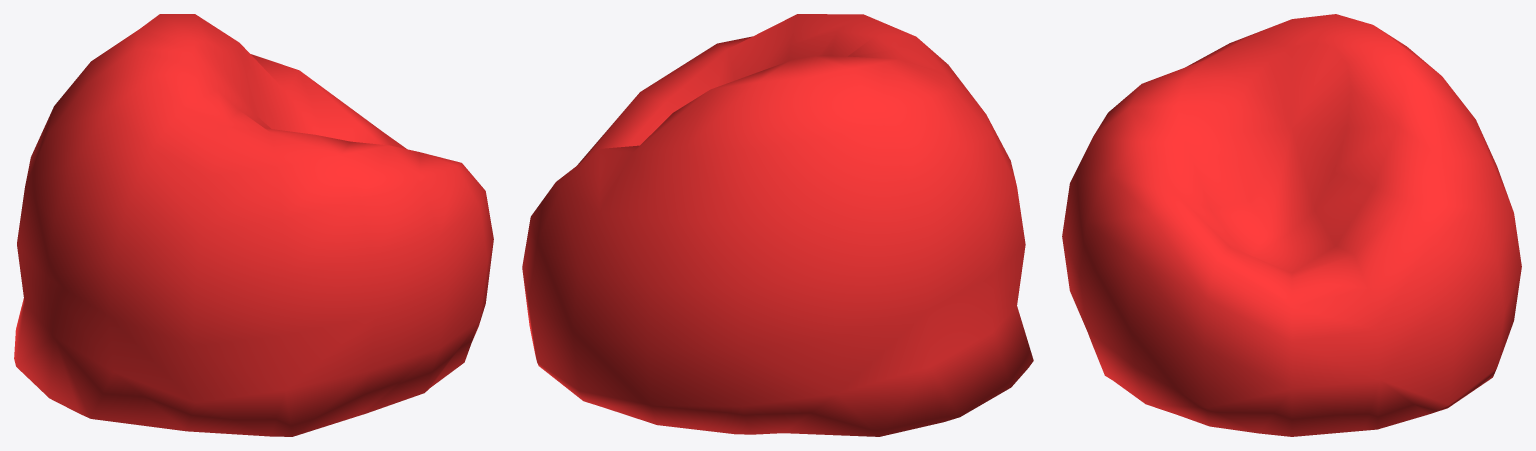
The model's file is beanbag.dae.
3 renders of one model, left to right at view 1: azimuth 30°, elevation 25°; view 2: azimuth 150°, elevation 25°; view 3: azimuth 270°, elevation 25°, orthographic. The views are drawn at different scales.
Parts seen in each view (by area): view 1: group_0; view 2: group_0; view 3: group_0.
Boxes of the visible parts, bbox=[...] form: group_0: bbox=[14, 14, 493, 436]; group_0: bbox=[522, 14, 1033, 436]; group_0: bbox=[1062, 14, 1521, 436].
Size of the model in its own units: 118 by 116 by 79.18.
